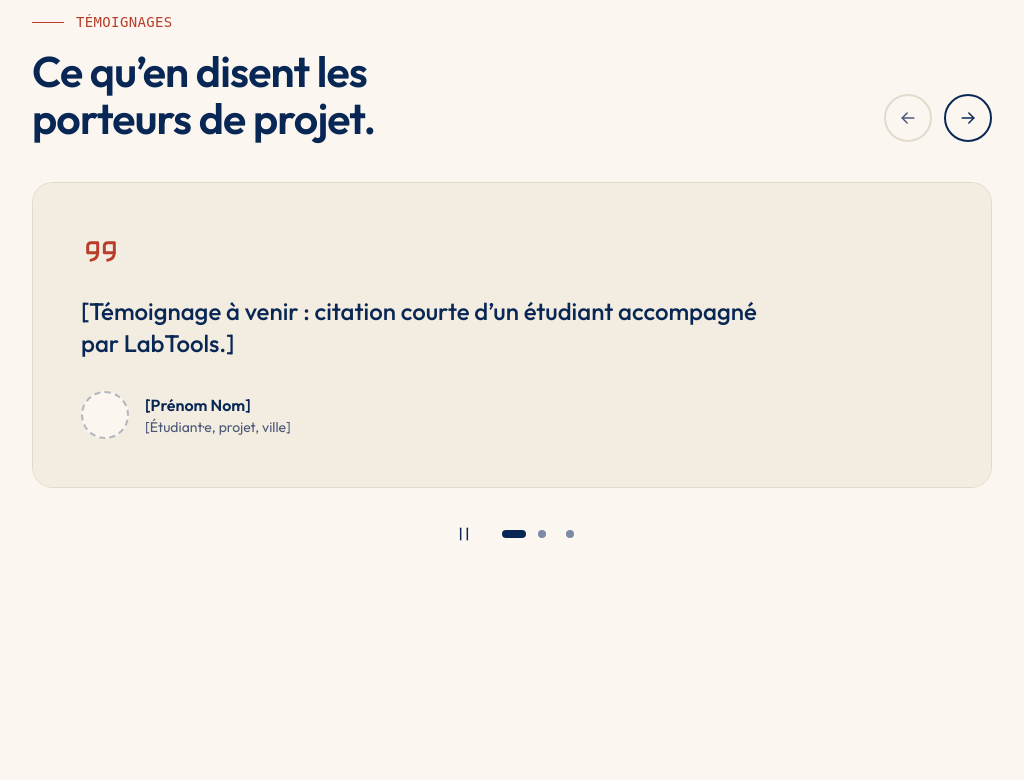
Testimonials › va directement au témoignage choisi
Click the button named "Afficher le témoignage 3 sur 3" at (570, 534), box [558, 522, 582, 546]
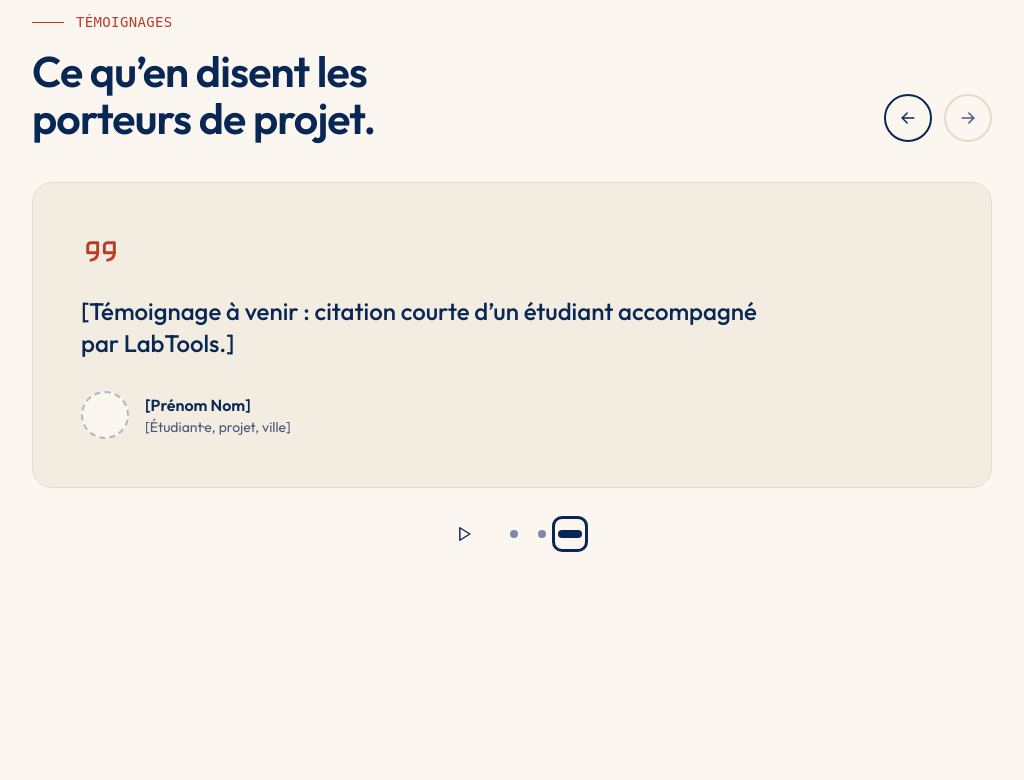
Result: the button named "Témoignage suivant" is disabled at [944, 94, 992, 142]
